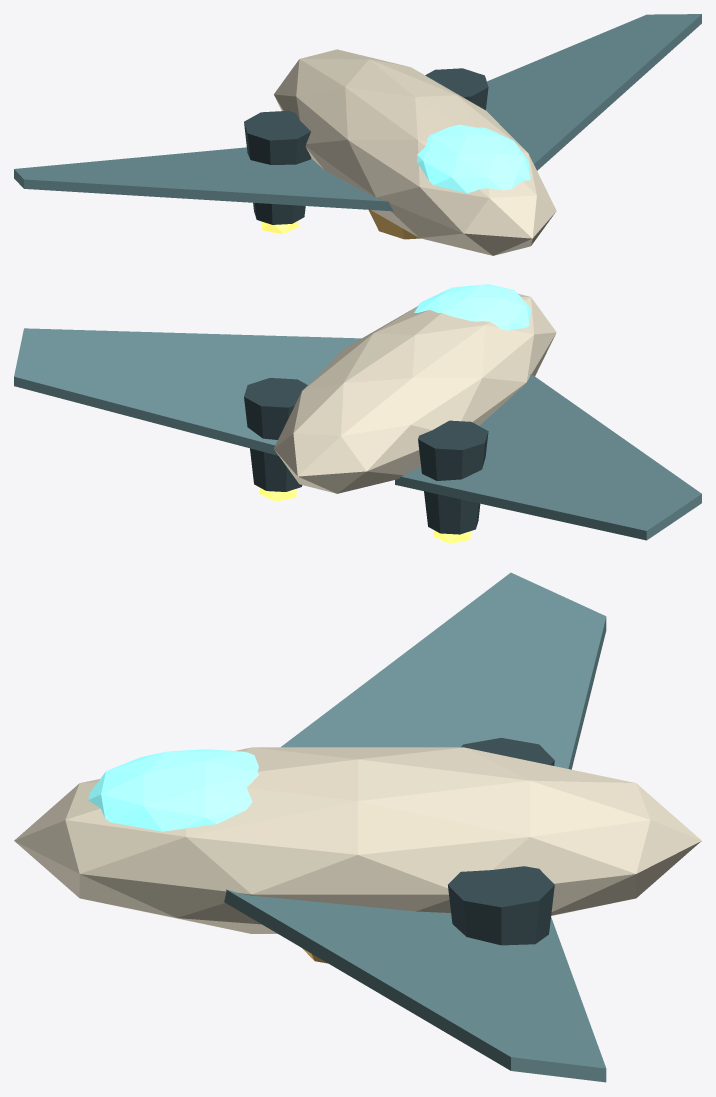
The model's file is aircraft.glb.
3 renders of one model, top to bottom at view 1: azimuth 30°, elevation 25°; view 2: azimuth 150°, elevation 25°; view 3: azimuth 270°, elevation 25°, orthographic. The views are drawn at different scales.
Visible parts, largest first — view 1: aircraft; view 2: aircraft; view 3: aircraft.
Part boxes in pixels (x1,y1,x2,y2): aircraft: (14, 14, 701, 255); aircraft: (14, 284, 701, 543); aircraft: (14, 572, 701, 1082).
Size of the model in its own units: 6 by 1.28 by 3.6.
